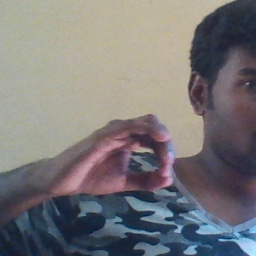O: (49, 112, 181, 201)
